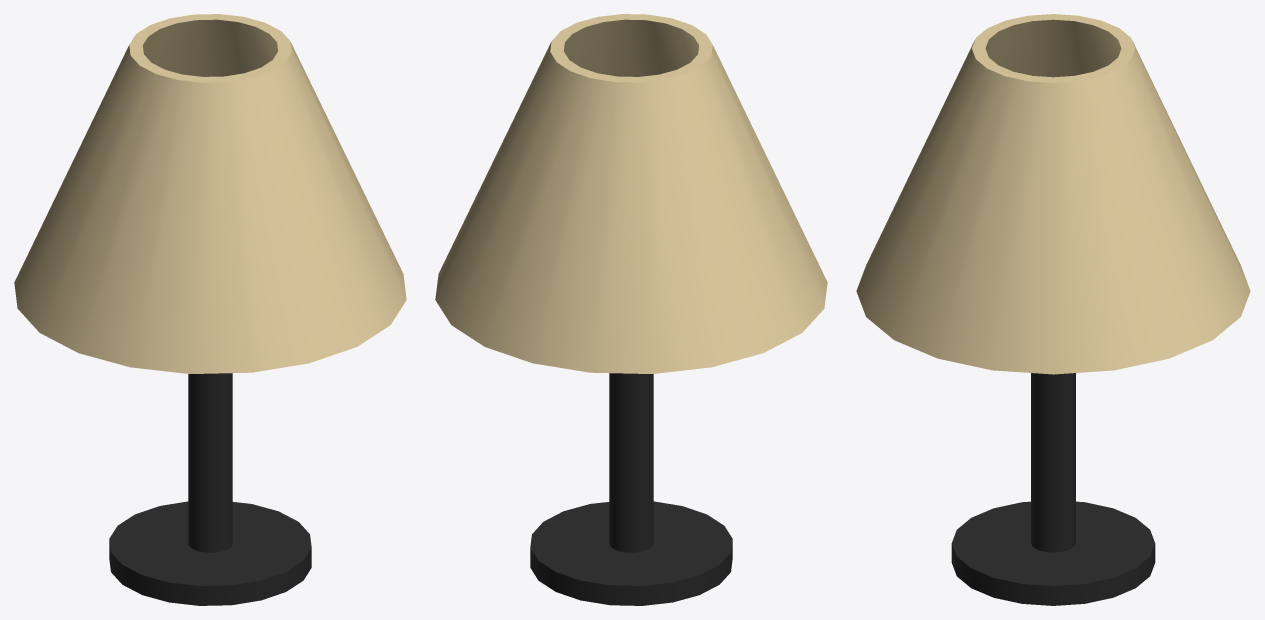
The model's file is lamp.fbx.
The picture shows the model from 3 angles, left to right: view 1: azimuth 30°, elevation 25°; view 2: azimuth 150°, elevation 25°; view 3: azimuth 270°, elevation 25°; orthographic projection.
Parts seen in each view (by area): view 1: lamp; view 2: lamp; view 3: lamp.
Boxes of the visible parts, bbox=[...] form: lamp: bbox=[14, 14, 406, 605]; lamp: bbox=[435, 14, 827, 605]; lamp: bbox=[856, 14, 1250, 605].
Bounding box in the file's own units: 2.92 × 4.21 × 2.92.
